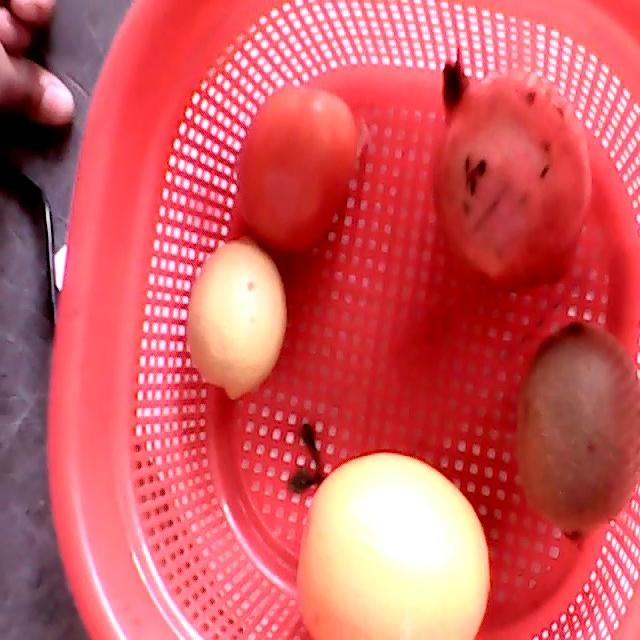kiwi: (518, 319, 639, 544)
lemon: (187, 232, 287, 402)
orange: (296, 453, 490, 639)
pomegranate: (431, 46, 592, 287)
tomato: (241, 84, 359, 256)
